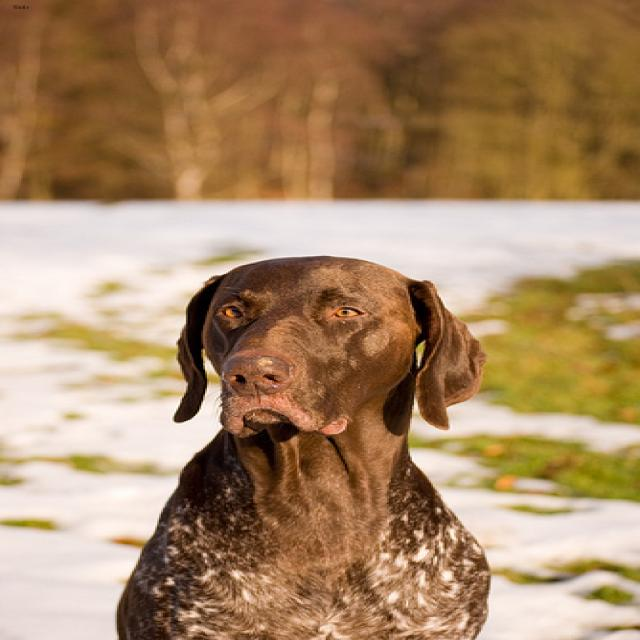dog-german_shorthaired: (100, 247, 504, 637)
